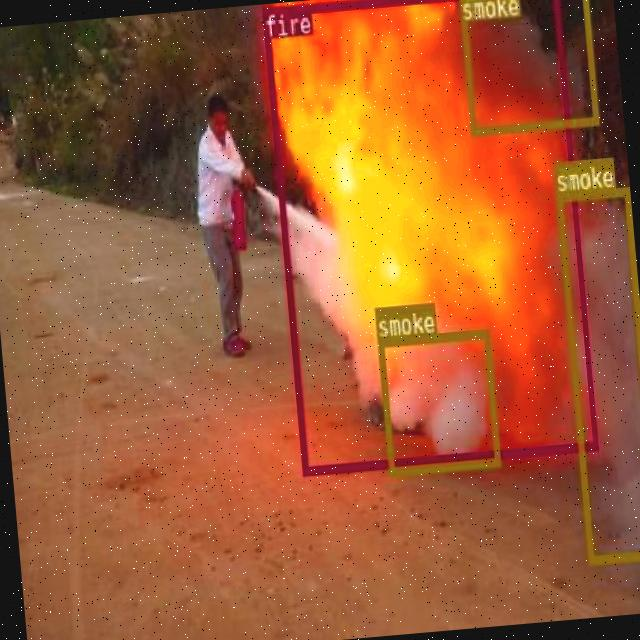fire: (262, 0, 597, 473)
smoke: (555, 184, 640, 562), (457, 0, 598, 134), (375, 328, 500, 474)
